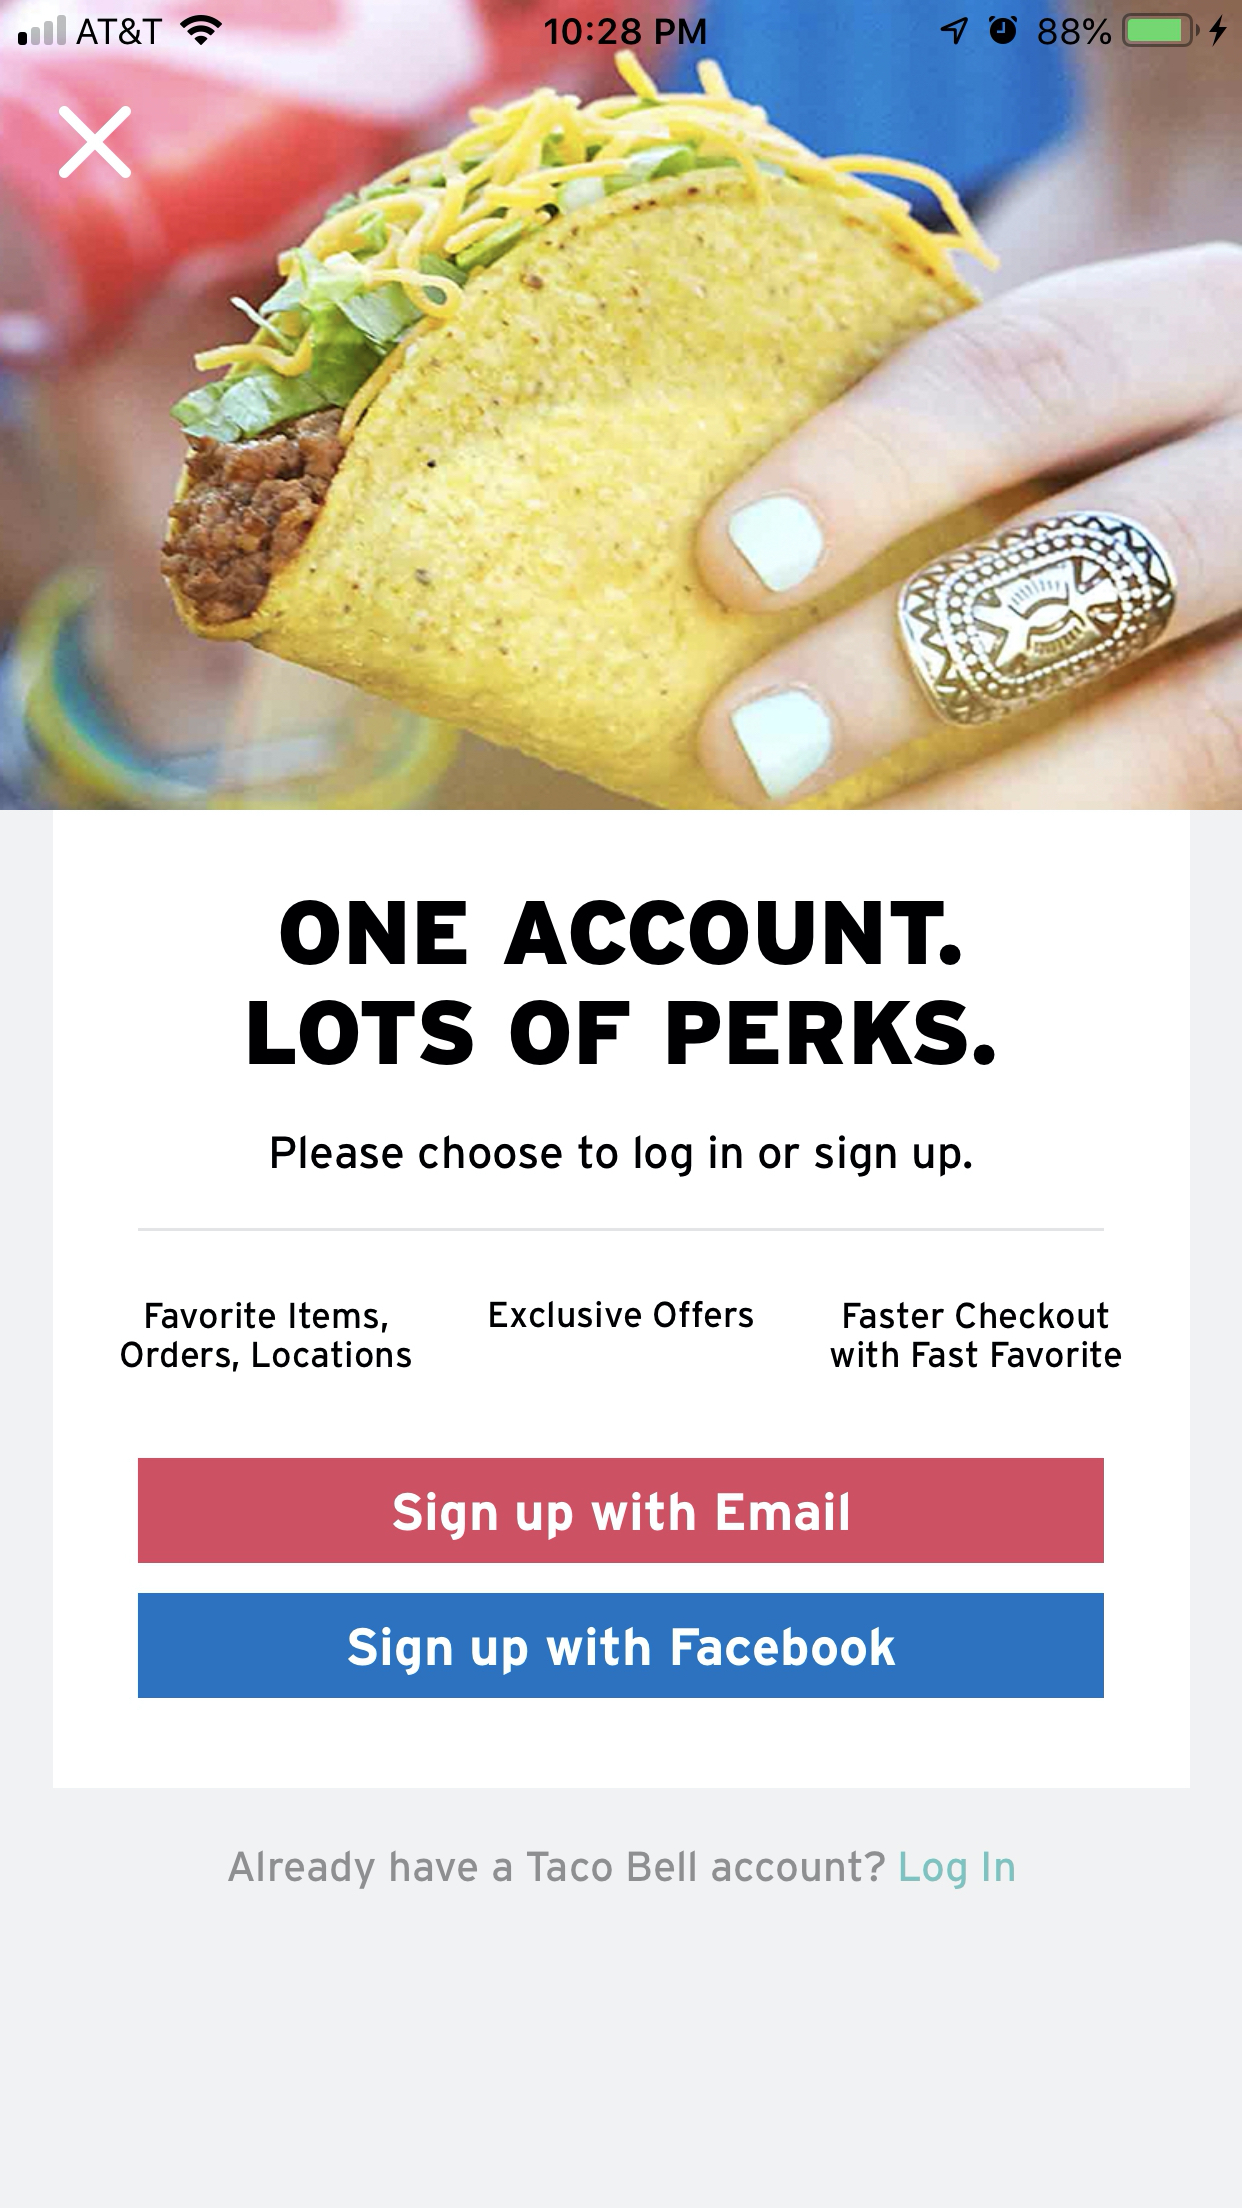Icon: (59, 105, 133, 180)
Image: (2, 2, 1242, 810)
Text: (249, 899, 996, 1068), (227, 1849, 1016, 1891), (271, 1134, 974, 1180), (120, 1301, 412, 1372), (830, 1301, 1122, 1369), (490, 1300, 754, 1328)
TextButton: (140, 1592, 1106, 1698), (138, 1457, 1104, 1563)
UpperTaskBar: (2, 2, 1242, 49)
